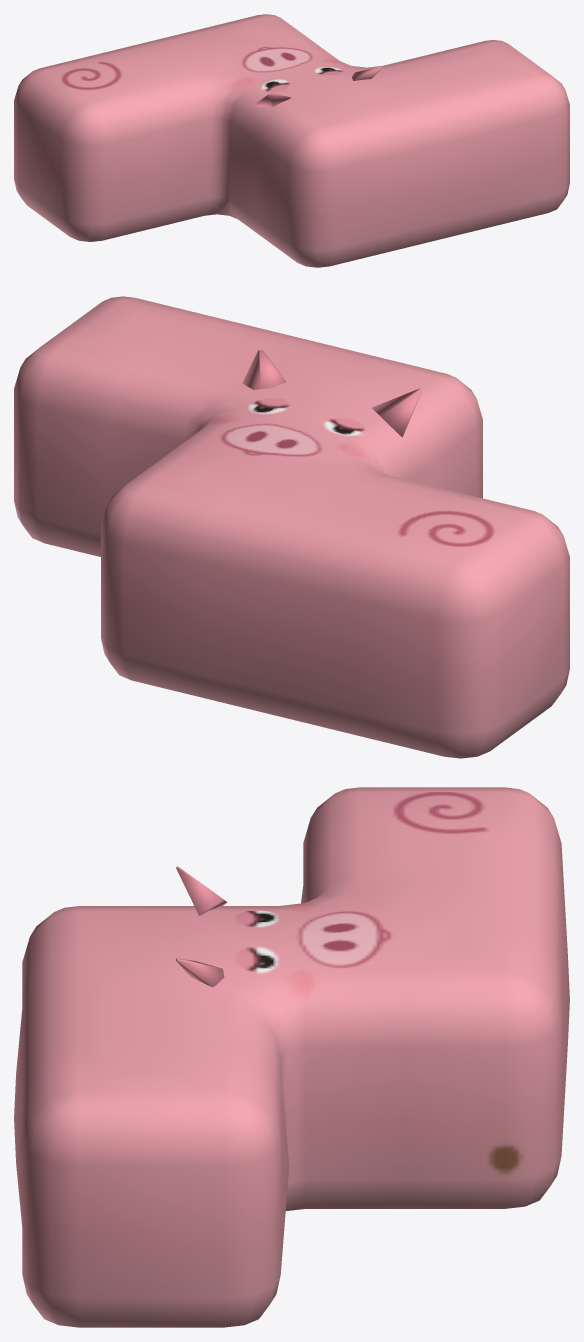
File: Pig_SMirror.fbx
3 views of the same model, one above another, from view 1: azimuth 30°, elevation 25°; view 2: azimuth 150°, elevation 25°; view 3: azimuth 270°, elevation 25° (orthographic). The views are drawn at different scales.
Visible parts, largest first — view 1: Pig_SMirror; view 2: Pig_SMirror; view 3: Pig_SMirror.
Part boxes in pixels (left/top/right/bottom): Pig_SMirror: left=14, top=14, right=569, bottom=267; Pig_SMirror: left=14, top=296, right=569, bottom=758; Pig_SMirror: left=14, top=787, right=569, bottom=1327.
Bounding box in the file's own units: 2.98 × 0.9771 × 1.98.
1 material, 1 textured.
